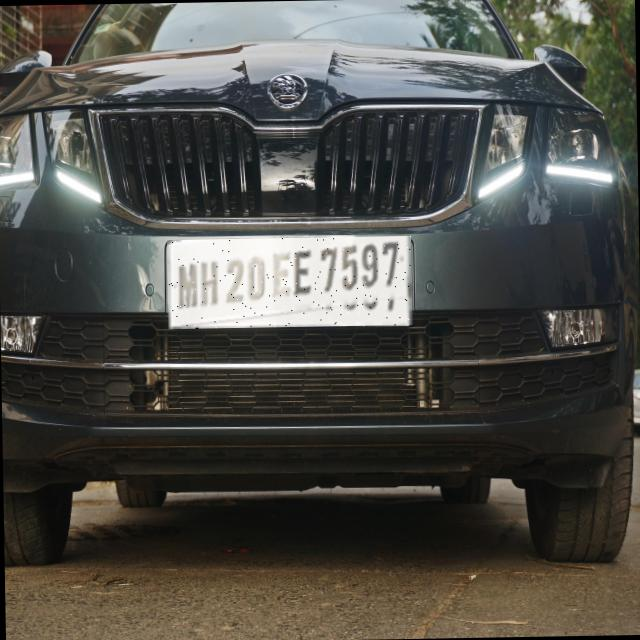Plate: (168, 237, 414, 330)
